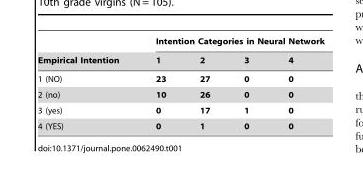table: (37, 36, 323, 130)
table column: (37, 36, 136, 130), (268, 36, 323, 130), (136, 36, 182, 130), (182, 36, 226, 130), (226, 36, 268, 130)
table column header: (37, 36, 323, 69)
table row: (37, 50, 323, 69), (37, 69, 323, 86), (37, 86, 323, 102), (37, 102, 323, 118), (37, 36, 323, 50), (37, 118, 323, 130)
table spanning cell: (37, 36, 136, 69), (136, 36, 323, 50)
